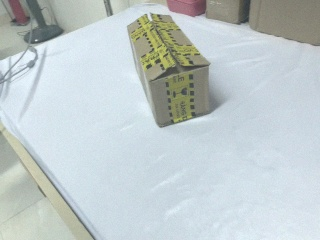box: (127, 12, 211, 128), (248, 1, 320, 46), (205, 1, 251, 25)
